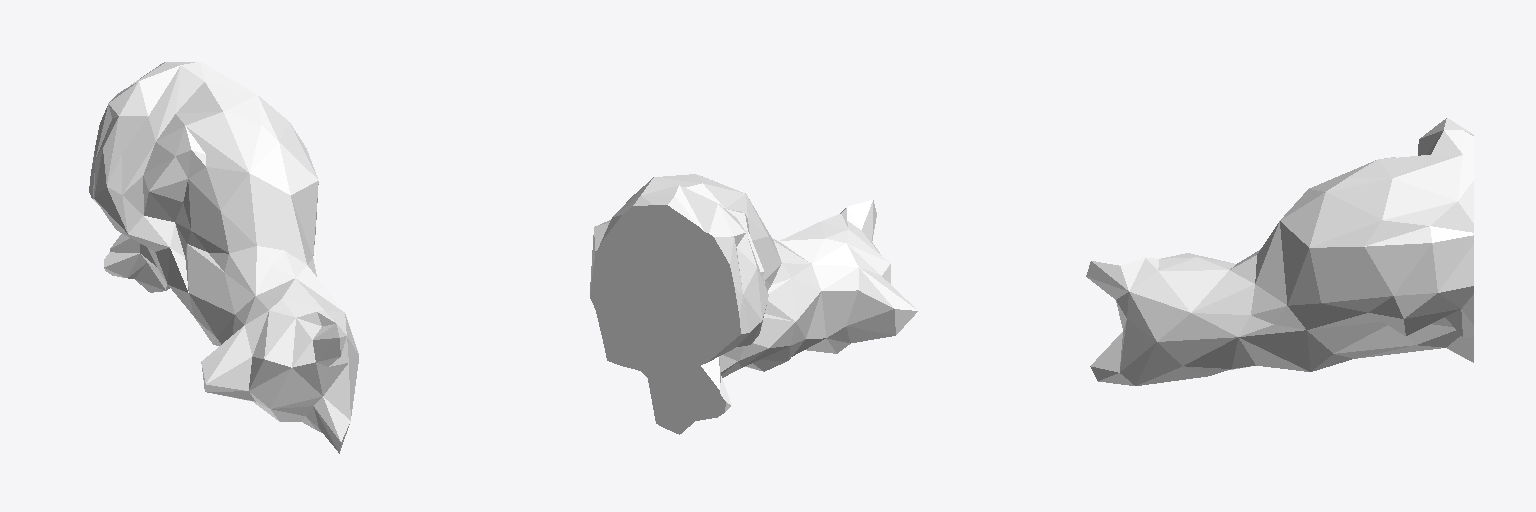
Rendered from large.obj.
3 views of the same model, side by side, from view 1: azimuth 30°, elevation 25°; view 2: azimuth 150°, elevation 25°; view 3: azimuth 270°, elevation 25° (orthographic).
Visible parts, largest first — view 1: <STL_BINARY>; view 2: <STL_BINARY>; view 3: <STL_BINARY>.
Boxes of the visible parts, <box> form: <STL_BINARY>: <box>89,62,358,453</box>; <STL_BINARY>: <box>590,174,917,434</box>; <STL_BINARY>: <box>1086,118,1473,385</box>.
Size of the model in its own units: 63.73 by 78.36 by 107.